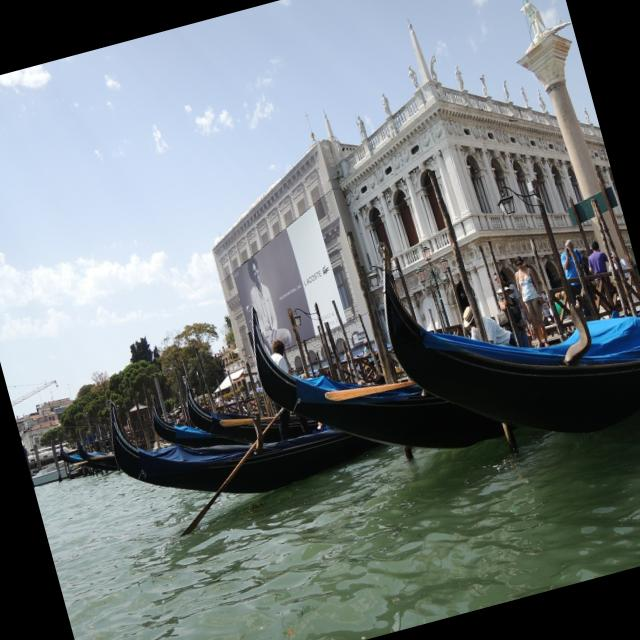boat: (347, 177, 640, 511), (222, 227, 526, 513), (84, 312, 409, 559)
